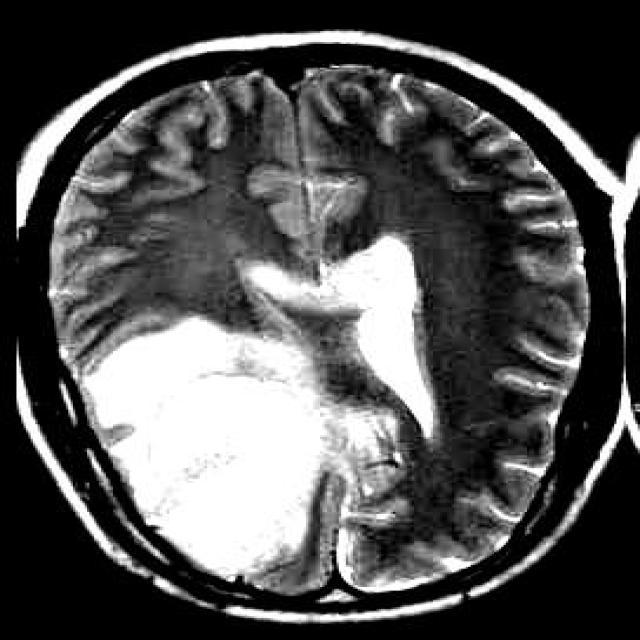brain tumor: (78, 316, 336, 576)
